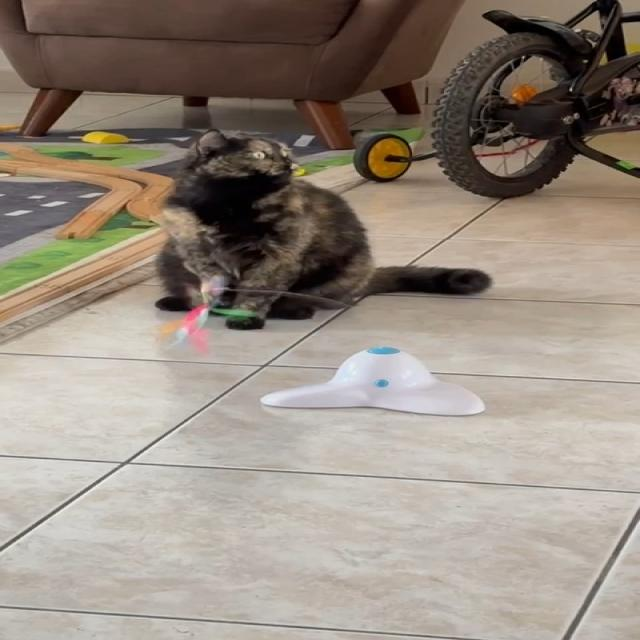authorized: (152, 128, 492, 328)
